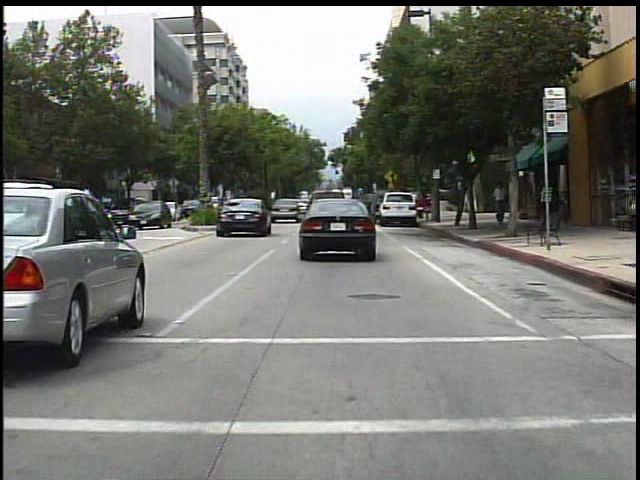person: (489, 183, 510, 228)
